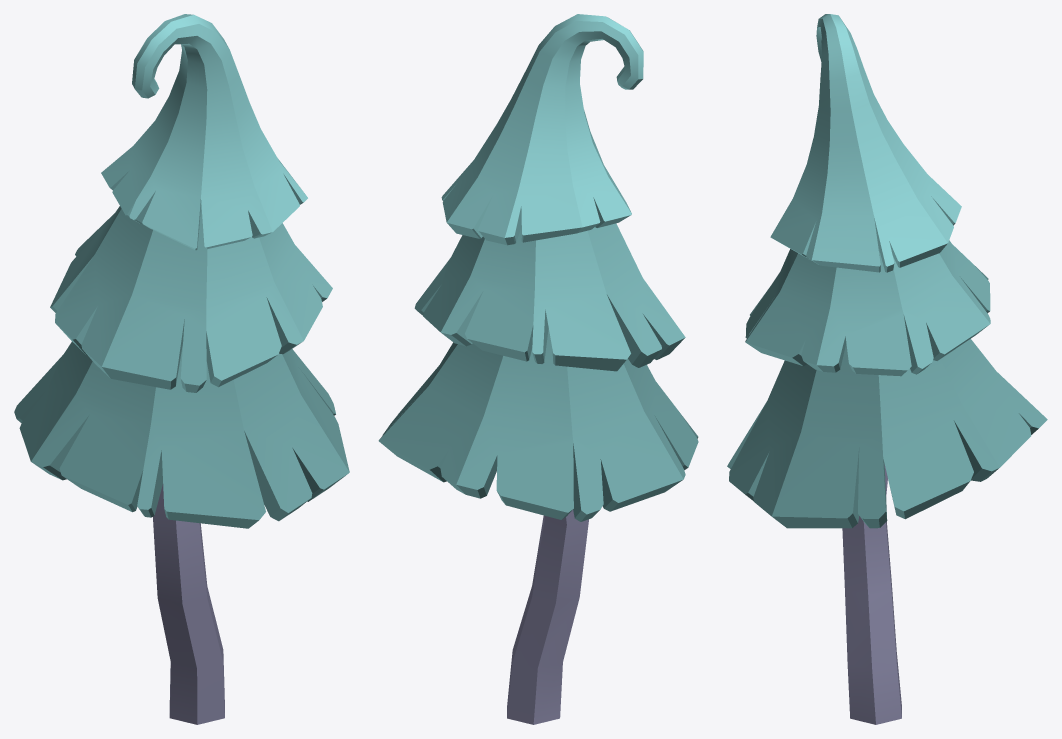
File: Mystic_Tree_M_A1.fbx
The picture shows the model from 3 angles, left to right: view 1: azimuth 30°, elevation 25°; view 2: azimuth 150°, elevation 25°; view 3: azimuth 270°, elevation 25°; orthographic projection. The views are drawn at different scales.
Parts seen in each view (by area): view 1: Mystic_Tree_M_A1; view 2: Mystic_Tree_M_A1; view 3: Mystic_Tree_M_A1.
Part boxes in pixels (x1,y1,x2,y2): Mystic_Tree_M_A1: [14, 14, 349, 724]; Mystic_Tree_M_A1: [378, 14, 698, 724]; Mystic_Tree_M_A1: [727, 14, 1047, 724].
Size of the model in its own units: 401 by 922 by 397.
